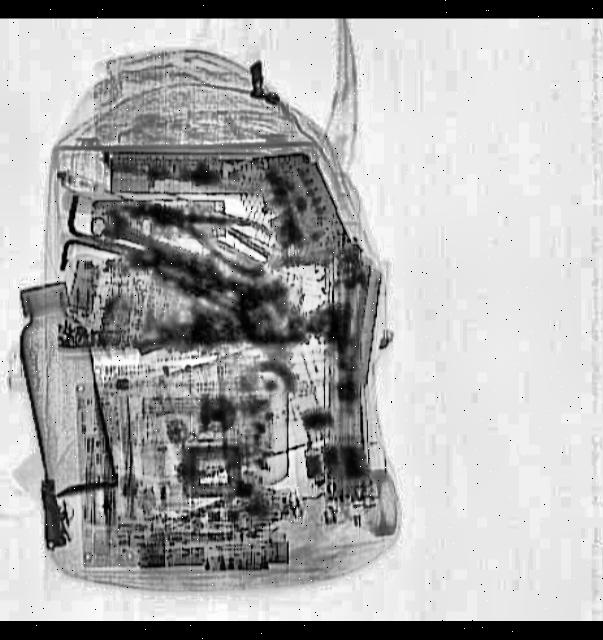Pliers: (127, 181, 279, 276)
